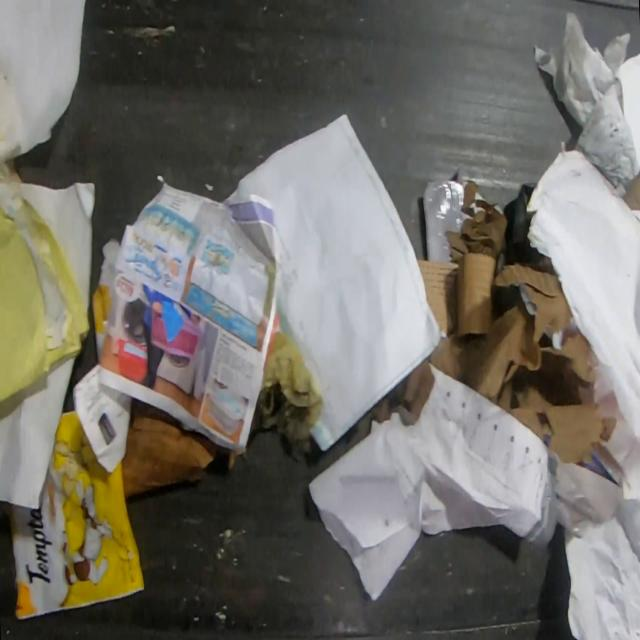cardboard: (121, 396, 220, 500), (417, 251, 496, 339), (620, 170, 640, 209)
soft_plastic: (8, 407, 145, 621), (0, 0, 87, 153), (421, 177, 466, 262)
